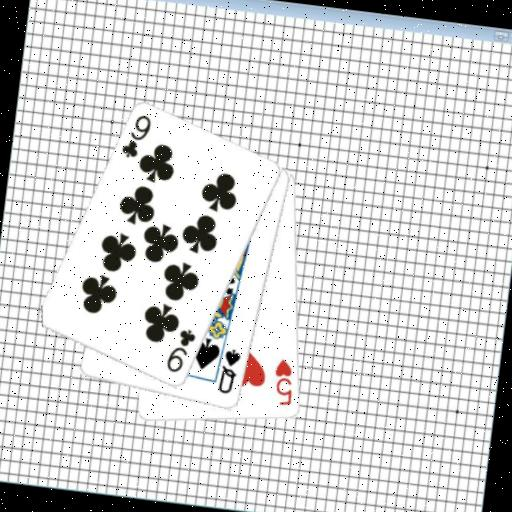5H: (269, 355, 299, 409)
9C: (163, 324, 199, 377), (118, 111, 154, 163)
QS: (215, 345, 244, 397)
